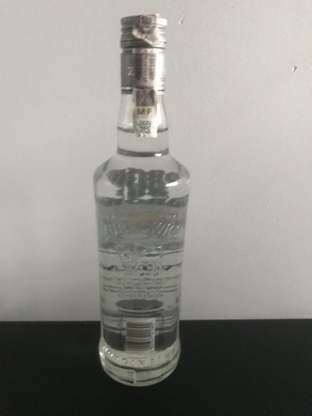nakretka: (118, 12, 168, 94)
